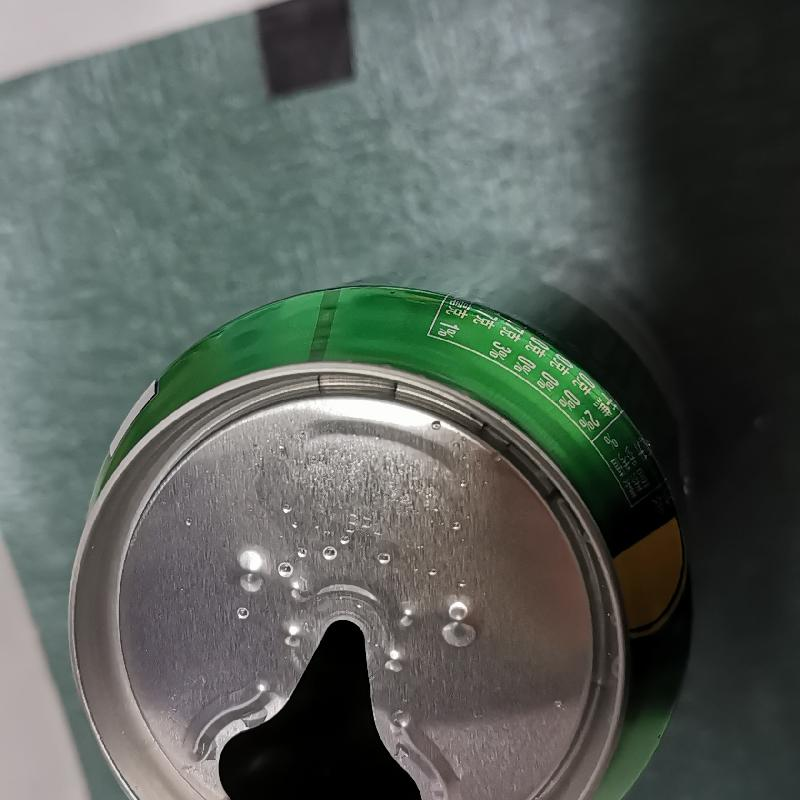cans: (80, 265, 706, 800)
